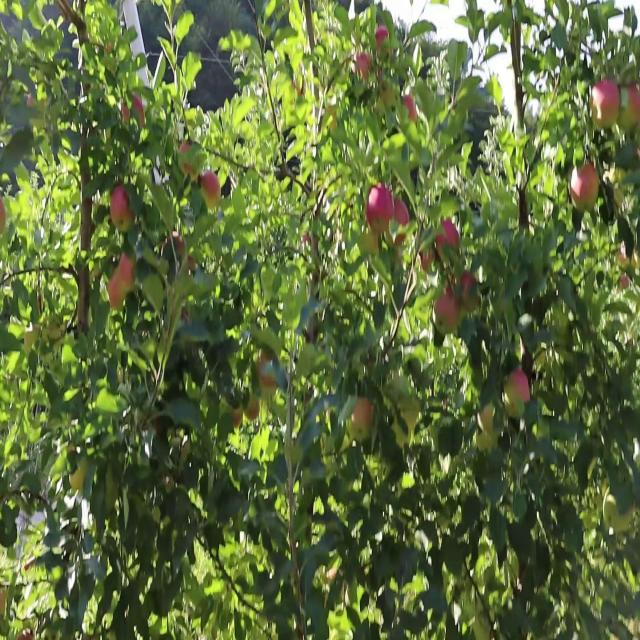apple: (592, 78, 620, 132), (504, 369, 532, 421), (604, 490, 634, 537), (368, 184, 392, 235), (112, 184, 136, 233), (576, 163, 600, 210), (620, 85, 640, 137), (436, 291, 461, 332), (352, 398, 375, 436), (392, 199, 410, 247), (460, 270, 480, 313), (436, 220, 460, 252), (108, 270, 126, 311), (200, 170, 221, 204), (392, 199, 410, 235), (480, 405, 499, 439), (260, 355, 277, 391), (352, 49, 371, 80), (124, 99, 145, 126), (120, 255, 136, 290), (620, 241, 640, 268), (476, 433, 500, 455), (572, 184, 589, 215), (72, 462, 87, 492), (180, 142, 193, 176), (404, 92, 418, 123), (420, 248, 436, 272), (376, 28, 390, 55), (168, 234, 185, 256), (380, 85, 396, 108), (248, 398, 260, 421), (232, 412, 244, 428), (156, 419, 164, 441), (24, 561, 35, 576), (188, 255, 197, 272), (620, 277, 629, 292), (5, 597, 7, 608), (5, 211, 7, 220)
